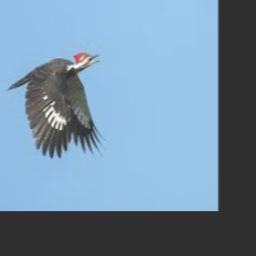Woodpecker: (7, 51, 106, 160)
